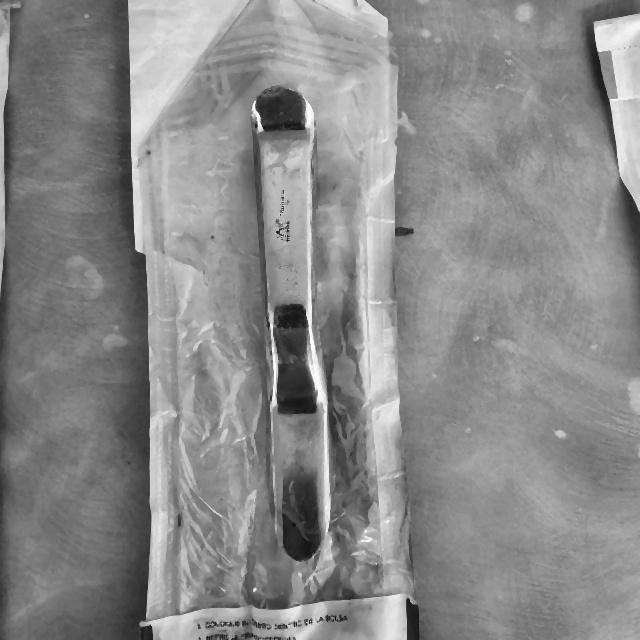separador: (251, 86, 330, 565)
